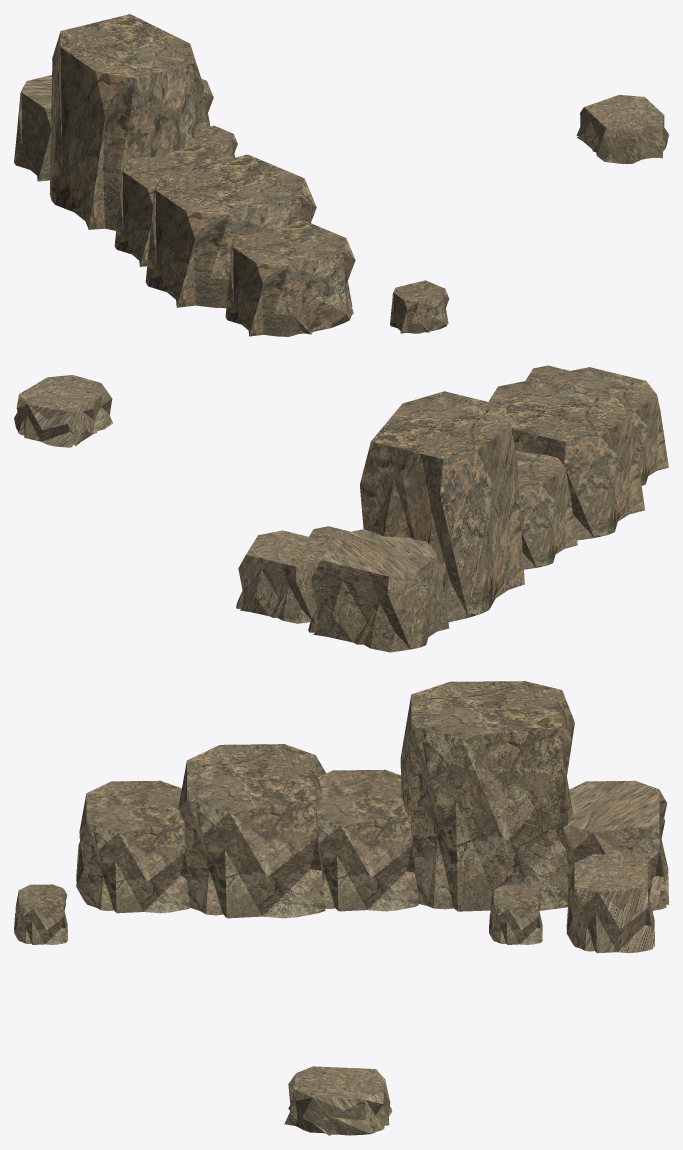
The model's file is rocasLeones.obj.
3 renders of one model, top to bottom at view 1: azimuth 30°, elevation 25°; view 2: azimuth 150°, elevation 25°; view 3: azimuth 270°, elevation 25°, orthographic. The views are drawn at different scales.
Visible parts, largest first — view 1: polySurface8, polySurface6, polySurface4, polySurface9, polySurface7, polySurface1, polySurface5, polySurface3, polySurface2; view 2: polySurface8, polySurface6, polySurface1, polySurface2, polySurface9, polySurface7, polySurface4; view 3: polySurface8, polySurface6, polySurface4, polySurface7, polySurface1, polySurface2, polySurface9, polySurface3, polySurface5.
Part boxes in pixels (bbox=[...]): polySurface8: bbox=[49, 14, 204, 230]; polySurface6: bbox=[145, 154, 316, 308]; polySurface4: bbox=[225, 220, 355, 336]; polySurface9: bbox=[576, 95, 668, 164]; polySurface7: bbox=[114, 142, 233, 266]; polySurface1: bbox=[14, 75, 51, 181]; polySurface5: bbox=[390, 280, 449, 333]; polySurface3: bbox=[195, 125, 237, 157]; polySurface2: bbox=[196, 78, 213, 129]; polySurface8: bbox=[360, 391, 524, 622]; polySurface6: bbox=[488, 378, 645, 540]; polySurface1: bbox=[308, 529, 449, 652]; polySurface2: bbox=[236, 530, 329, 623]; polySurface9: bbox=[14, 375, 112, 447]; polySurface7: bbox=[515, 450, 577, 569]; polySurface4: bbox=[553, 367, 668, 485]; polySurface8: bbox=[400, 681, 574, 911]; polySurface6: bbox=[178, 744, 326, 918]; polySurface4: bbox=[76, 780, 190, 913]; polySurface7: bbox=[316, 769, 418, 911]; polySurface1: bbox=[560, 780, 668, 910]; polySurface2: bbox=[566, 854, 654, 953]; polySurface9: bbox=[284, 1066, 392, 1135]; polySurface3: bbox=[489, 884, 542, 944]; polySurface5: bbox=[14, 884, 67, 944].
Bounding box in the file's own units: 22.89 × 6.21 × 21.37.
1 material, 1 textured.
